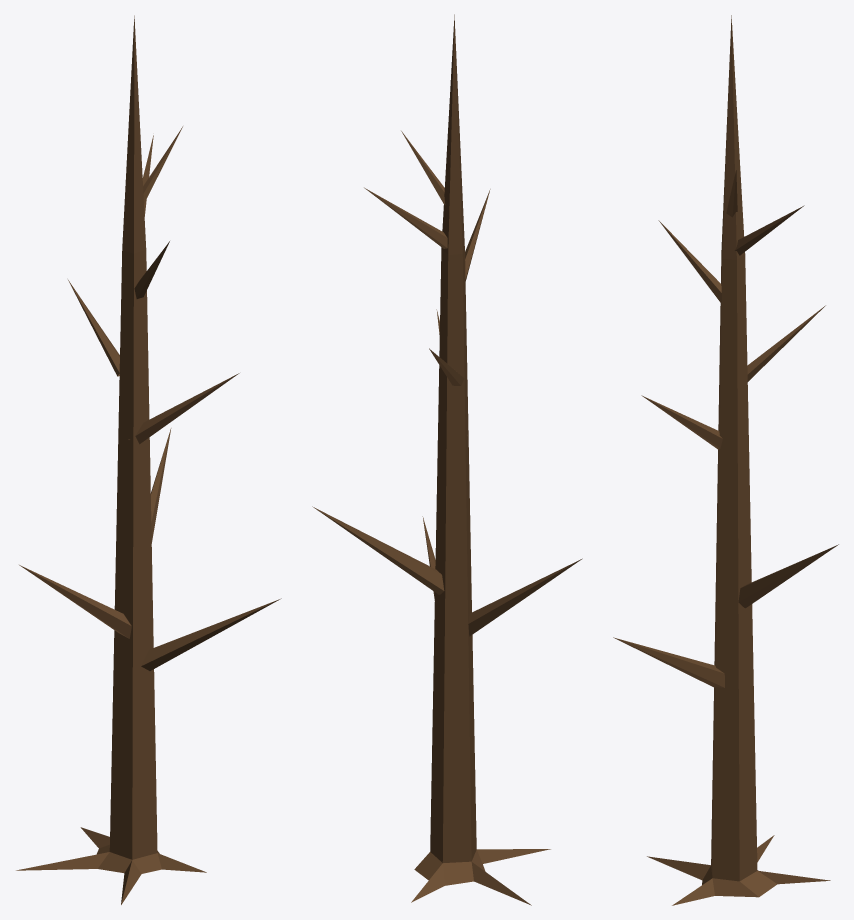
File: tree-dead-3.glb
The picture shows the model from 3 angles, left to right: view 1: azimuth 30°, elevation 25°; view 2: azimuth 150°, elevation 25°; view 3: azimuth 270°, elevation 25°; orthographic projection. The views are drawn at different scales.
Parts seen in each view (by area): view 1: tree-dead; view 2: tree-dead; view 3: tree-dead.
Part boxes in pixels (box(x1,y1,x2,y2)): tree-dead: box(16, 15, 281, 904); tree-dead: box(312, 14, 582, 905); tree-dead: box(613, 15, 838, 905).
Size of the model in its own units: 2.07 by 7.88 by 1.87.
